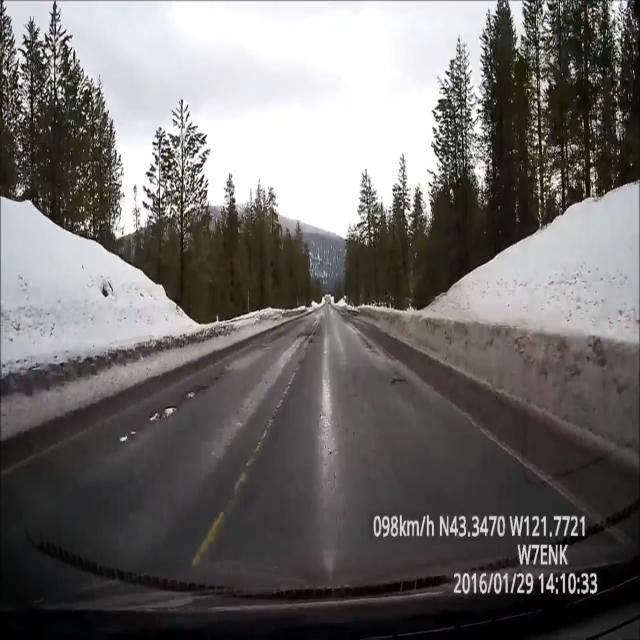Pothole: (390, 368, 412, 398)
